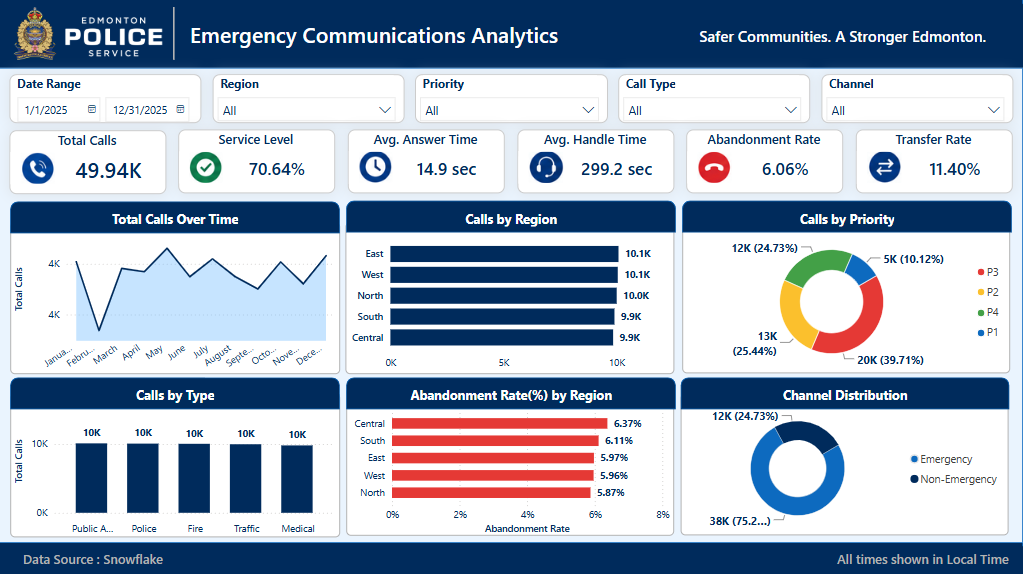

The dashboard page shown, as its layout file describes it:
{"tool":"powerbi","page":{"name":"Page 1","canvas":[1280,720],"ordinal":0},"visuals":[{"type":"group","id":"g1","title":"Text","box":[0,0,1280,720],"z":0},{"type":"shape","title":"main space","box":[0,0,1280,720],"z":0,"group":"g1"},{"type":"slicer","title":"Slicer","fields":{"Values":["VW_CALLS_DETAIL.CALL_DATE"]},"box":[13.1,93.8,240,61],"z":0,"group":"g2"},{"type":"cardVisual","title":"Total Calls","fields":{"Data":["Measure.Total Calls"]},"box":[13.4,163.9,195.7,80],"z":0,"group":"g3"},{"type":"textbox","box":[0,5.7,1280,84.3],"z":1000,"group":"g1"},{"type":"group","id":"g2","title":"Filter","box":[13.1,93.8,1255,61],"z":1000},{"type":"slicer","fields":{"Values":["VW_CALLS_DETAIL.REGION"]},"box":[266.9,93.8,240,61],"z":1000,"group":"g2"},{"type":"cardVisual","title":"Service Level","fields":{"Data":["Measure.Service Level"]},"box":[224.8,163.1,196,80],"z":1000,"group":"g3"},{"type":"image","box":[0,10,88.6,65.7],"z":2000,"group":"g1"},{"type":"slicer","fields":{"Values":["VW_CALLS_DETAIL.PRIORITY_LEVEL"]},"box":[520.6,93.8,240,61],"z":2000,"group":"g2"},{"type":"group","id":"g3","title":"KPI","box":[13.4,162.9,1253.7,81],"z":2000},{"type":"cardVisual","title":"Avg. Answer Time","fields":{"Data":["Measure.Avg Wait Time"]},"box":[436.4,163.1,196,80],"z":2000,"group":"g3"},{"type":"image","box":[82.9,0,121.4,94.3],"z":3000,"group":"g1"},{"type":"slicer","fields":{"Values":["VW_CALLS_DETAIL.CALL_TYPE"]},"box":[774.3,93.8,240,61],"z":3000,"group":"g2"},{"type":"cardVisual","title":"Avg. Handle Time","fields":{"Data":["Measure.Avg Handling Time"]},"box":[648.1,163.1,196,80],"z":3000,"group":"g3"},{"type":"donutChart","fields":{"Category":["VW_CALLS_DETAIL.PRIORITY_LEVEL"],"Y":["Measure.Total Calls"]},"box":[854.4,277.8,410,190],"z":3000},{"type":"shape","title":"line","box":[194.3,10,48.6,65.7],"z":4000,"group":"g1"},{"type":"slicer","fields":{"Values":["VW_CALLS_DETAIL.CHANNEL"]},"box":[1028.1,93.8,240,61],"z":4000,"group":"g2"},{"type":"cardVisual","title":"Abandonment Rate","fields":{"Data":["Measure.Abandonment Rate"]},"box":[859.7,163.1,196,80],"z":4000,"group":"g3"},{"type":"donutChart","fields":{"Category":["VW_CALLS_DETAIL.CHANNEL"],"Y":["Measure.Total Calls"]},"box":[852.2,493.3,410,176.7],"z":4000},{"type":"textbox","box":[870,28.6,397.1,65.7],"z":5000,"group":"g1"},{"type":"cardVisual","title":"Transfer Rate","fields":{"Data":["Measure.Transfer Rate"]},"box":[1071.4,162.9,195.7,80],"z":5000,"group":"g3"},{"type":"barChart","fields":{"Y":["Measure.Abandonment Rate"],"Category":["VW_CALLS_DETAIL.REGION"]},"box":[434.4,485.6,410,184.4],"z":5000},{"type":"shape","title":"white space","box":[0,86,1280,594],"z":6000,"group":"g1"},{"type":"columnChart","fields":{"Category":["VW_CALLS_DETAIL.CALL_TYPE"],"Y":["Measure.Total Calls"]},"box":[14.4,493.3,411.1,180],"z":6000},{"type":"barChart","fields":{"Y":["Measure.Total Calls"],"Category":["VW_CALLS_DETAIL.REGION"]},"box":[433.3,278.9,411.1,188.9],"z":7000},{"type":"textbox","box":[0,684.3,234.3,35.7],"z":7000,"group":"g1"},{"type":"lineChart","fields":{"Y":["Measure.Total Calls"],"Category":["VW_CALLS_DETAIL.CALL_DATE.Variation.Date Hierarchy.Month"]},"box":[14.4,278.9,411.1,188.9],"z":8000},{"type":"textbox","box":[1028.6,684.3,251.4,35.7],"z":8000,"group":"g1"},{"type":"shape","title":"Total Calls Over Time","box":[14.4,253.3,411.1,40],"z":9000},{"type":"shape","title":"Total Calls Over Time","box":[434.4,252.2,411.1,40],"z":10000},{"type":"shape","title":"Total Calls Over Time","box":[854.4,252.2,411.1,40],"z":11000},{"type":"shape","title":"Total Calls Over Time","box":[14.4,473.3,411.1,40],"z":12000},{"type":"shape","title":"Total Calls Over Time","box":[434.4,473.3,411.1,40],"z":13000},{"type":"shape","title":"Total Calls Over Time","box":[852.2,473.3,411.1,40],"z":14000}]}

Visuals, with their boxes in screenshot pixels (x1, y1, x2, y2), scaled from the page's 1280x720 canvas onto the 1023x574 screenshot:
"Text" group: {"x1": 0, "y1": 0, "x2": 1022, "y2": 573}
"main space" shape: {"x1": 0, "y1": 0, "x2": 1022, "y2": 573}
"Slicer" slicer: {"x1": 10, "y1": 75, "x2": 202, "y2": 123}
"Total Calls" cardVisual: {"x1": 11, "y1": 131, "x2": 167, "y2": 194}
textbox: {"x1": 0, "y1": 5, "x2": 1022, "y2": 72}
"Filter" group: {"x1": 10, "y1": 75, "x2": 1013, "y2": 123}
slicer - VW_CALLS_DETAIL.REGION: {"x1": 213, "y1": 75, "x2": 405, "y2": 123}
"Service Level" cardVisual: {"x1": 180, "y1": 130, "x2": 336, "y2": 194}
image: {"x1": 0, "y1": 8, "x2": 71, "y2": 60}
slicer - VW_CALLS_DETAIL.PRIORITY_LEVEL: {"x1": 416, "y1": 75, "x2": 608, "y2": 123}
"KPI" group: {"x1": 11, "y1": 130, "x2": 1013, "y2": 194}
"Avg. Answer Time" cardVisual: {"x1": 349, "y1": 130, "x2": 505, "y2": 194}
image: {"x1": 66, "y1": 0, "x2": 163, "y2": 75}
slicer - VW_CALLS_DETAIL.CALL_TYPE: {"x1": 619, "y1": 75, "x2": 811, "y2": 123}
"Avg. Handle Time" cardVisual: {"x1": 518, "y1": 130, "x2": 675, "y2": 194}
donutChart - VW_CALLS_DETAIL.PRIORITY_LEVEL x Measure.Total Calls: {"x1": 683, "y1": 221, "x2": 1011, "y2": 373}
"line" shape: {"x1": 155, "y1": 8, "x2": 194, "y2": 60}
slicer - VW_CALLS_DETAIL.CHANNEL: {"x1": 822, "y1": 75, "x2": 1013, "y2": 123}
"Abandonment Rate" cardVisual: {"x1": 687, "y1": 130, "x2": 844, "y2": 194}
donutChart - VW_CALLS_DETAIL.CHANNEL x Measure.Total Calls: {"x1": 681, "y1": 393, "x2": 1009, "y2": 534}
textbox: {"x1": 695, "y1": 23, "x2": 1013, "y2": 75}
"Transfer Rate" cardVisual: {"x1": 856, "y1": 130, "x2": 1013, "y2": 194}
barChart - Measure.Abandonment Rate x VW_CALLS_DETAIL.REGION: {"x1": 347, "y1": 387, "x2": 675, "y2": 534}
"white space" shape: {"x1": 0, "y1": 69, "x2": 1022, "y2": 542}
columnChart - VW_CALLS_DETAIL.CALL_TYPE x Measure.Total Calls: {"x1": 12, "y1": 393, "x2": 340, "y2": 537}
barChart - Measure.Total Calls x VW_CALLS_DETAIL.REGION: {"x1": 346, "y1": 222, "x2": 675, "y2": 373}
textbox: {"x1": 0, "y1": 546, "x2": 187, "y2": 573}
lineChart - Measure.Total Calls x VW_CALLS_DETAIL.CALL_DATE.Variation.Date Hierarchy.Month: {"x1": 12, "y1": 222, "x2": 340, "y2": 373}
textbox: {"x1": 822, "y1": 546, "x2": 1022, "y2": 573}
"Total Calls Over Time" shape: {"x1": 12, "y1": 202, "x2": 340, "y2": 234}
"Total Calls Over Time" shape: {"x1": 347, "y1": 201, "x2": 676, "y2": 233}
"Total Calls Over Time" shape: {"x1": 683, "y1": 201, "x2": 1011, "y2": 233}
"Total Calls Over Time" shape: {"x1": 12, "y1": 377, "x2": 340, "y2": 409}
"Total Calls Over Time" shape: {"x1": 347, "y1": 377, "x2": 676, "y2": 409}
"Total Calls Over Time" shape: {"x1": 681, "y1": 377, "x2": 1010, "y2": 409}
